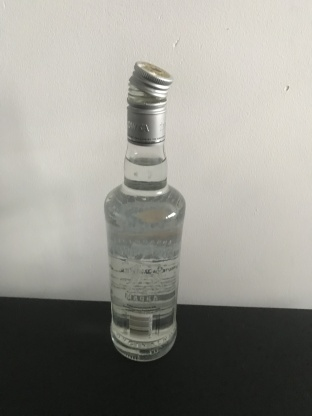nakretka: (125, 58, 173, 146)
